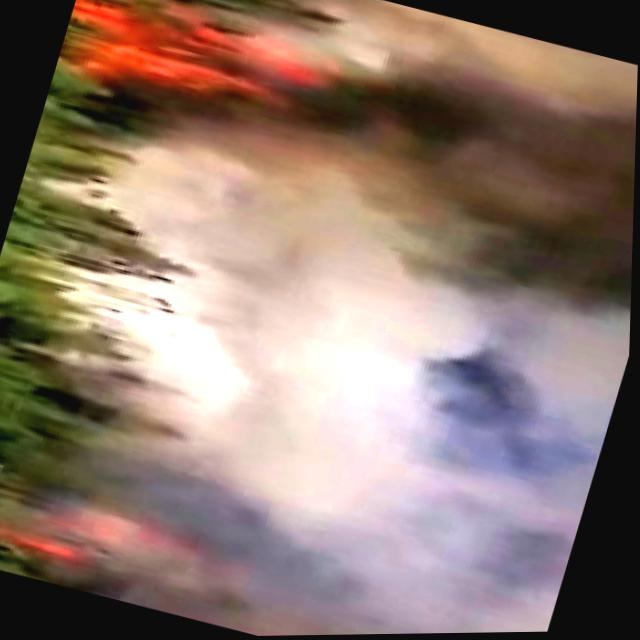fire: (53, 0, 328, 132)
smoke: (261, 82, 638, 456)
